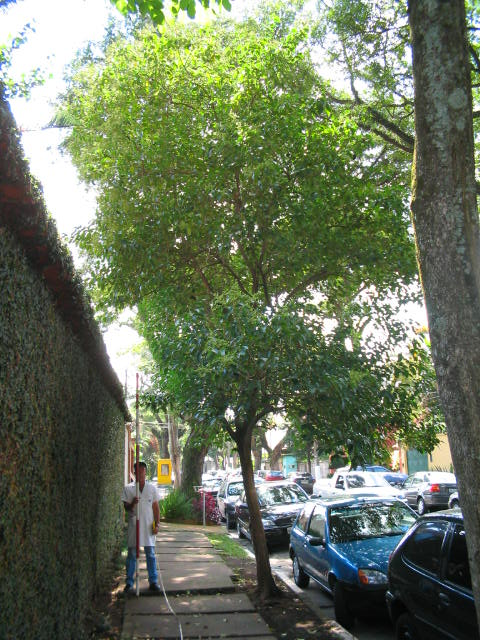crown: (56, 15, 435, 467)
stem: (226, 447, 292, 600), (172, 443, 212, 519)
stick: (129, 372, 148, 597)
tree: (54, 14, 424, 602)
